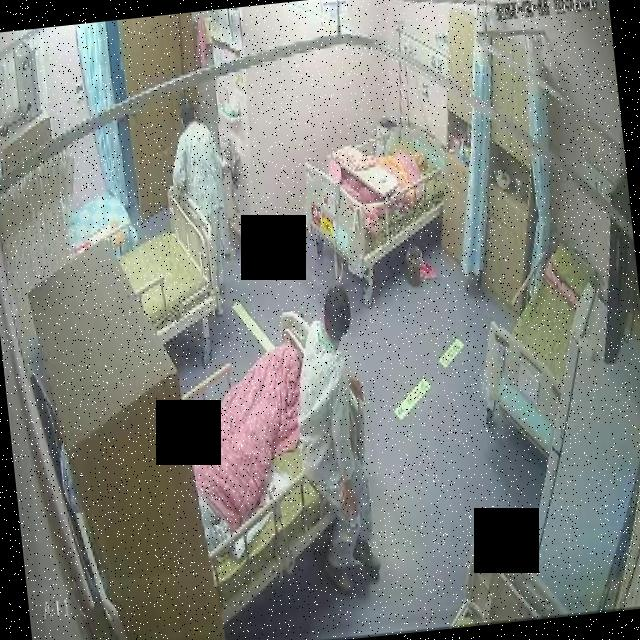bed: (175, 312, 376, 594), (468, 232, 604, 464), (294, 104, 453, 280), (114, 178, 226, 344)
patient: (280, 280, 388, 594), (160, 94, 246, 322)
sit: (279, 279, 386, 592)
